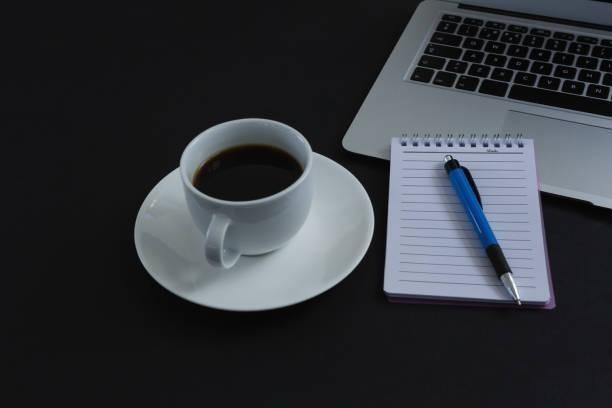cup-handle: (178, 116, 315, 270)
